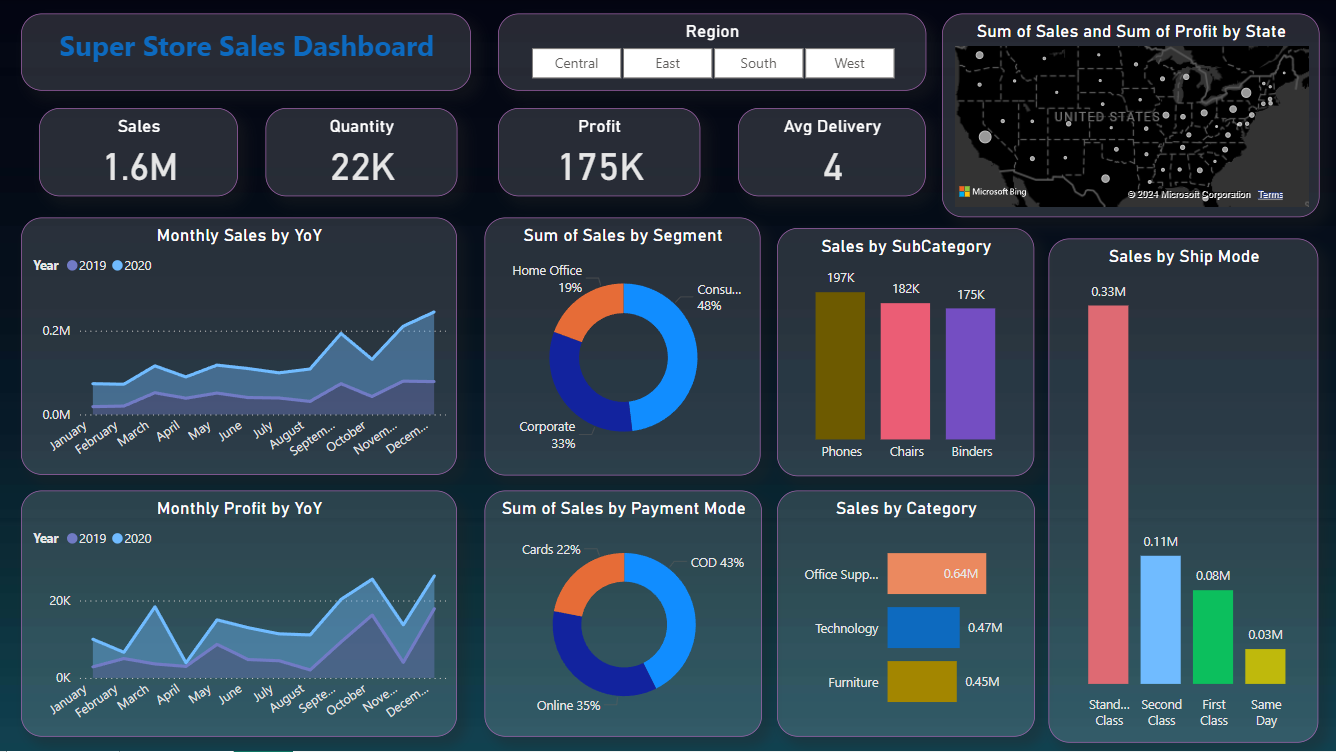

Layout of this report page (visuals, bound fields, positions):
{"tool":"powerbi","page":{"name":"Page 1","canvas":[1280,720],"ordinal":0},"visuals":[{"type":"clusteredBarChart","title":"Sales by Category","fields":{"Category":["Sheet1.Category"],"Y":["Sum(Sheet1.Sales)"]},"box":[744.4,469.9,247.2,235.7],"z":0},{"type":"clusteredColumnChart","title":"Sales by SubCategory","fields":{"Y":["Sum(Sheet1.Sales)"],"Category":["Sheet1.Sub-Category"]},"box":[745,218,246.8,237.7],"z":1000},{"type":"clusteredColumnChart","title":"Sales by Ship Mode","fields":{"Y":["Sum(Sheet1.Sales)"],"Category":["Sheet1.Ship Mode"]},"box":[1005.4,228.6,258.9,483],"z":2000},{"type":"stackedAreaChart","title":"Monthly Sales by YoY","fields":{"Category":["Sheet1.Order Date.Variation.Date Hierarchy.Month","Sheet1.Order Date.Variation.Date Hierarchy.Day"],"Y":["Sum(Sheet1.Sales)"],"Series":["Sheet1.Order Date.Variation.Date Hierarchy.Year"]},"box":[19.7,209,417.9,246.8],"z":3000},{"type":"stackedAreaChart","title":"Monthly Profit by YoY","fields":{"Category":["Sheet1.Order Date.Variation.Date Hierarchy.Month","Sheet1.Order Date.Variation.Date Hierarchy.Day"],"Series":["Sheet1.Order Date.Variation.Date Hierarchy.Year"],"Y":["Sum(Sheet1.Profit)"]},"box":[20.1,469.9,418.2,235.7],"z":4000},{"type":"map","fields":{"Category":["Sheet1.State"],"Size":["Sum(Sheet1.Sales)"]},"box":[902.5,12.9,362.2,195.4],"z":5000},{"type":"donutChart","fields":{"Category":["Sheet1.Segment"],"Y":["Sum(Sheet1.Sales)"]},"box":[464.2,208.4,264.4,247.2],"z":6000},{"type":"slicer","title":"Region","fields":{"Values":["Sheet1.Region"]},"box":[477,13.6,410.3,74.2],"z":7000},{"type":"textbox","box":[19.7,13.6,431.5,74.2],"z":8000},{"type":"card","title":"Sales","fields":{"Values":["Sum(Sheet1.Sales)"]},"box":[37.9,103,190.8,84.8],"z":9000},{"type":"card","title":"Quantity","fields":{"Values":["Sum(Sheet1.Quantity)"]},"box":[254.4,103.5,184,84.8],"z":10000},{"type":"card","title":"Profit","fields":{"Values":["Sum(Sheet1.Profit)"]},"box":[477,103,193.8,84.8],"z":11000},{"type":"card","title":"Avg Delivery","fields":{"Values":["Avg(Sheet1.AVG Delivery)"]},"box":[707.1,103,180.2,84.8],"z":12000},{"type":"donutChart","fields":{"Y":["Sum(Sheet1.Sales)"],"Category":["Sheet1.Payment Mode"]},"box":[464.2,469.9,265.9,235.7],"z":13000}]}

Visuals, with their boxes in screenshot pixels (x1, y1, x2, y2), scaled from the page's 1280x720 canvas onto the 1339x752 screenshot:
"Sales by Category" clusteredBarChart: <region>779, 491, 1037, 737</region>
"Sales by SubCategory" clusteredColumnChart: <region>779, 228, 1038, 476</region>
"Sales by Ship Mode" clusteredColumnChart: <region>1052, 239, 1323, 743</region>
"Monthly Sales by YoY" stackedAreaChart: <region>21, 218, 458, 476</region>
"Monthly Profit by YoY" stackedAreaChart: <region>21, 491, 459, 737</region>
map - Sheet1.State x Sum(Sheet1.Sales): <region>944, 13, 1323, 218</region>
donutChart - Sheet1.Segment x Sum(Sheet1.Sales): <region>486, 218, 762, 476</region>
"Region" slicer: <region>499, 14, 928, 92</region>
textbox: <region>21, 14, 472, 92</region>
"Sales" card: <region>40, 108, 239, 196</region>
"Quantity" card: <region>266, 108, 459, 197</region>
"Profit" card: <region>499, 108, 702, 196</region>
"Avg Delivery" card: <region>740, 108, 928, 196</region>
donutChart - Sum(Sheet1.Sales) x Sheet1.Payment Mode: <region>486, 491, 764, 737</region>
